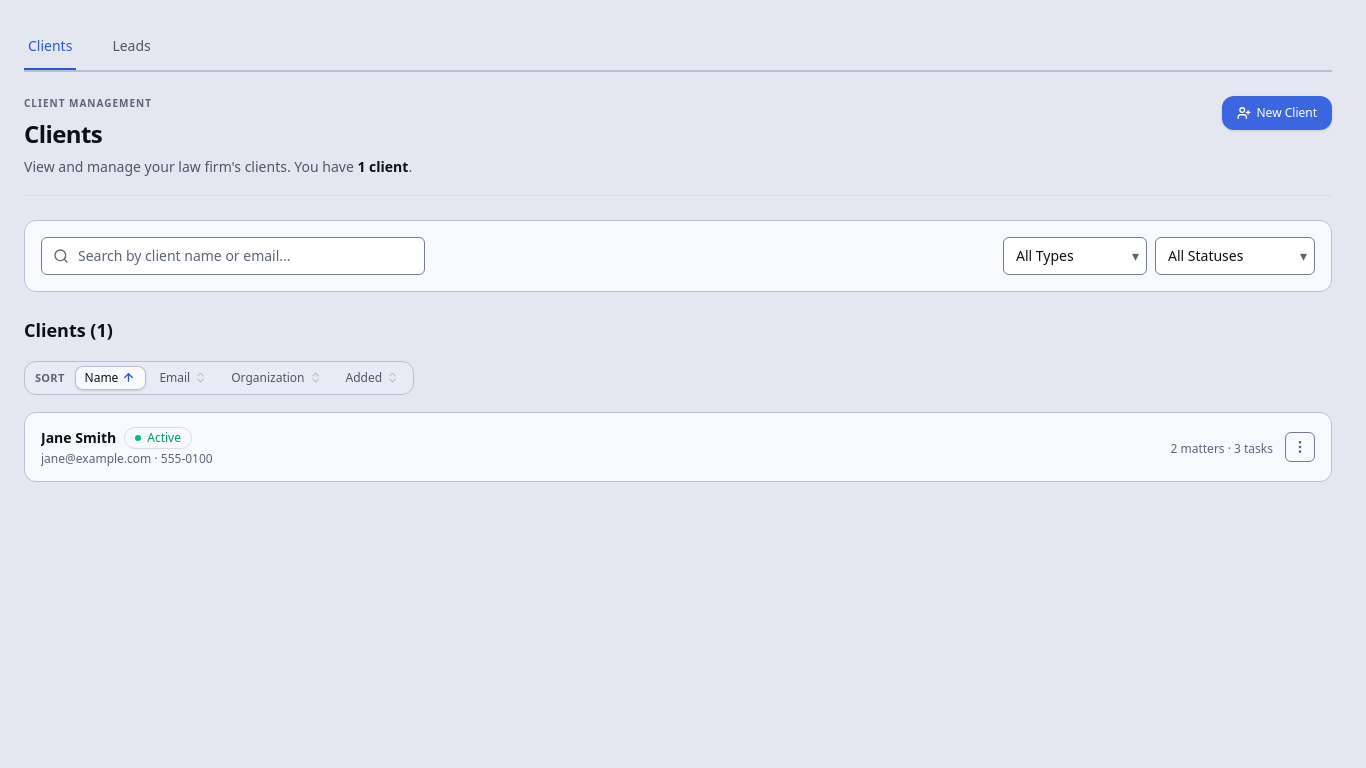
Test: a refused action: the remove fails › tells the user the client was not removed, and leaves it in the list
Check: the text "Jane Smith" is shown, box [41, 428, 116, 448]
Click the button named "Actions for Jane Smith". click: coordinates (1300, 447)
box: [1285, 432, 1315, 462]
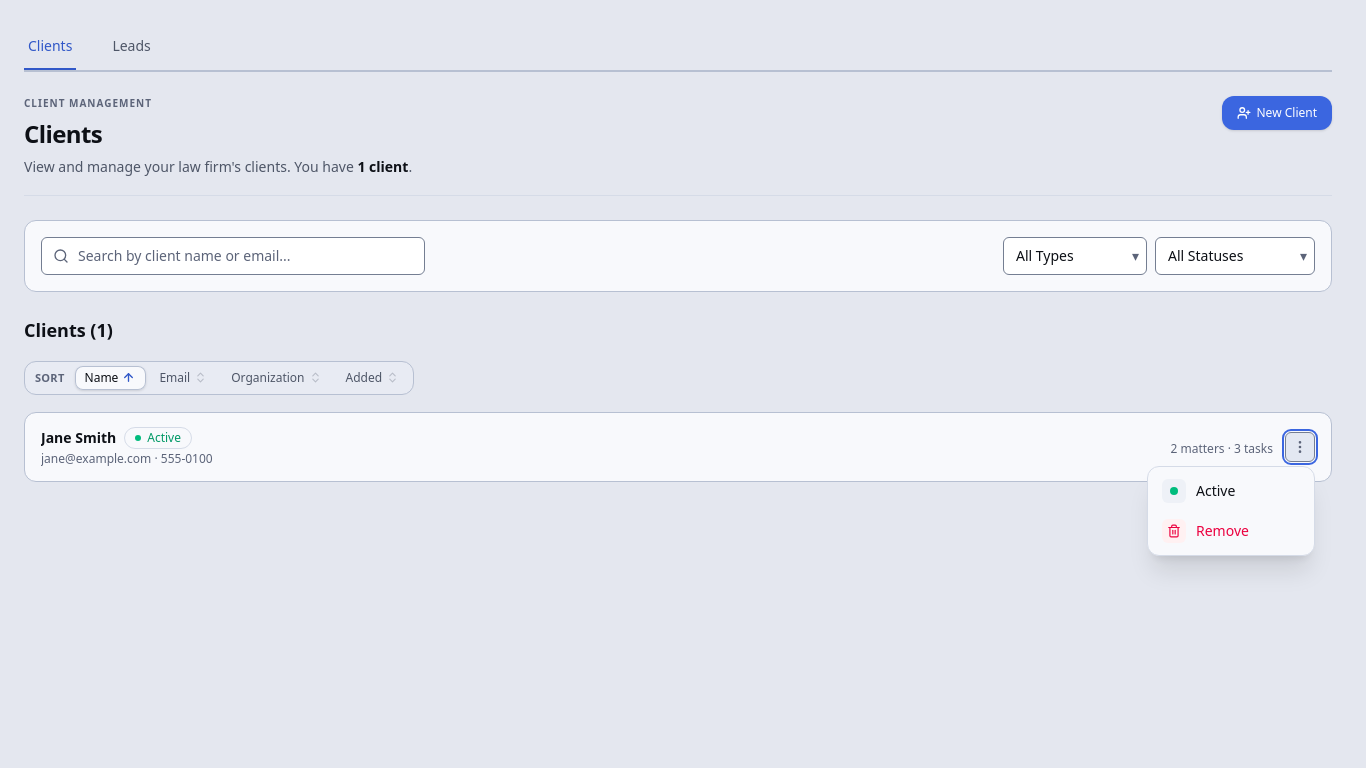
Click the menu item "Remove". click: coordinates (1231, 531)
box: [1152, 511, 1310, 551]
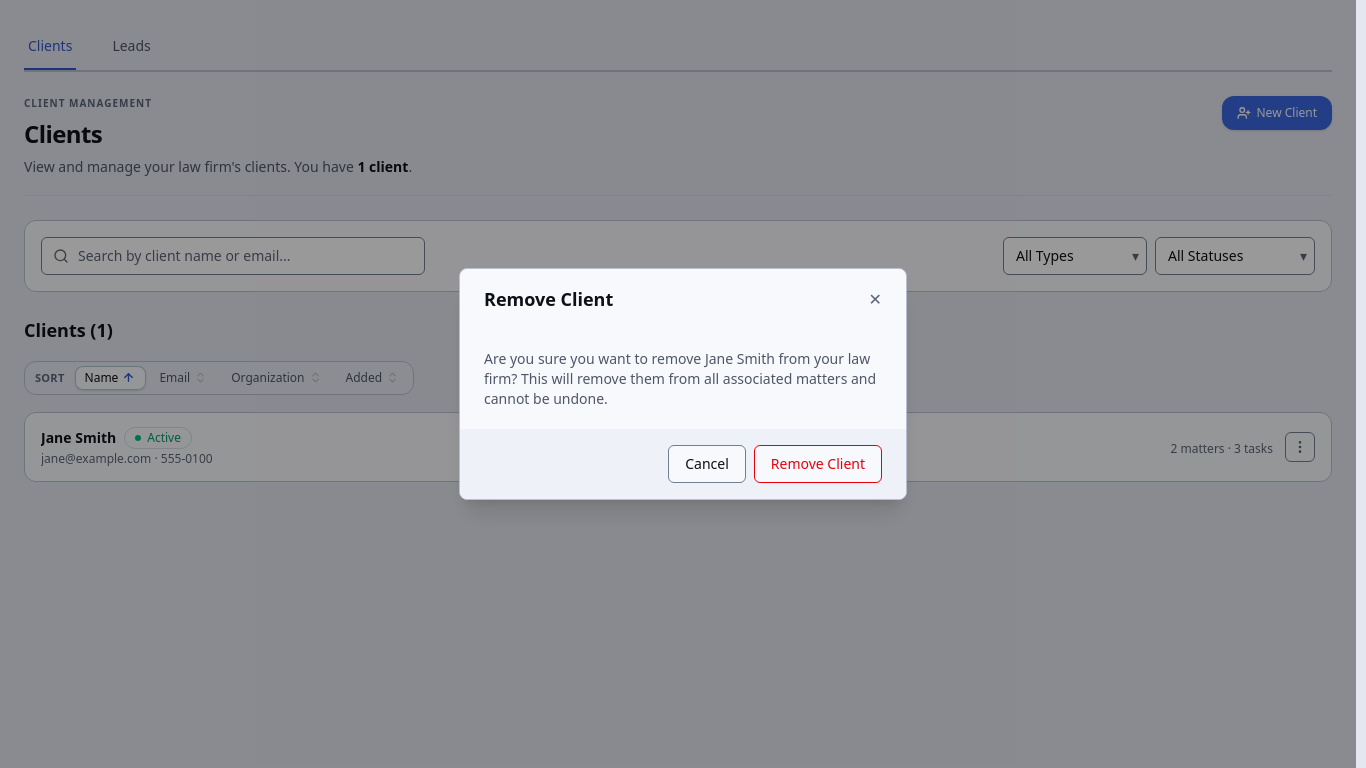
Click the button "Remove Client". click: coordinates (818, 464)
box: [754, 445, 882, 483]
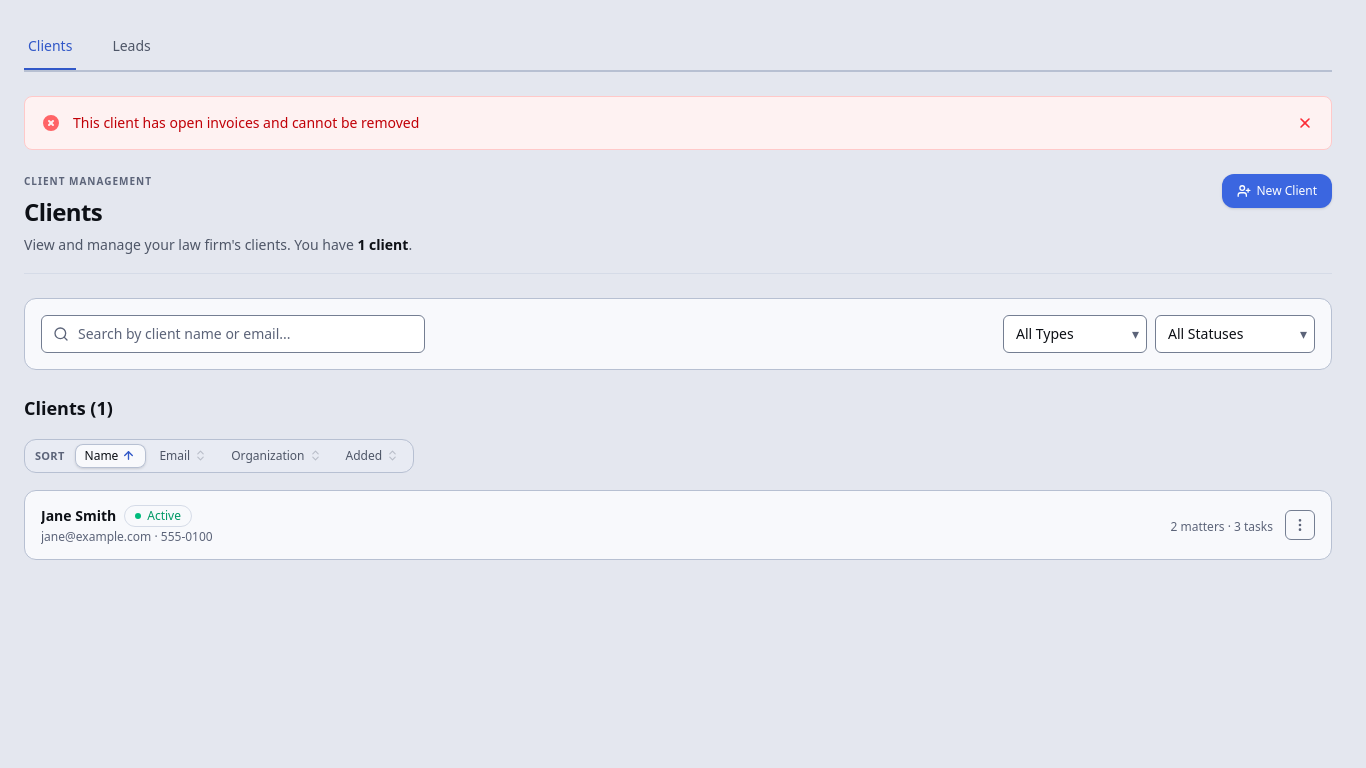
Check: the text "Jane Smith" is shown, box [41, 506, 116, 526]
Check: the text "This client has open invoices and cannot be removed" is shown, box [73, 113, 419, 132]
